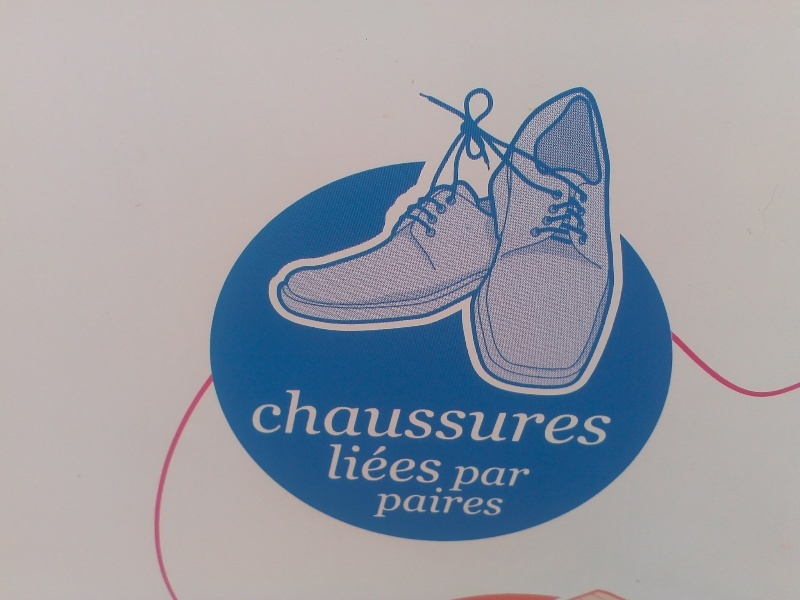text: (257, 386, 272, 448), (273, 386, 288, 448), (289, 386, 304, 448), (305, 386, 320, 448), (321, 386, 336, 448), (337, 386, 352, 448), (353, 386, 368, 448), (369, 386, 384, 448), (385, 386, 400, 448), (401, 386, 416, 448), (417, 386, 432, 448), (433, 386, 448, 448), (449, 386, 464, 448), (465, 386, 480, 448), (481, 386, 496, 448), (497, 386, 512, 448), (513, 386, 528, 448), (529, 386, 544, 448), (545, 386, 560, 448), (561, 386, 576, 448), (577, 386, 592, 448), (593, 386, 608, 448), (337, 443, 352, 484), (353, 443, 368, 484), (369, 443, 384, 484), (385, 443, 400, 484), (401, 443, 416, 484), (417, 443, 432, 484), (433, 443, 448, 484), (385, 485, 400, 518), (401, 485, 416, 518), (417, 485, 432, 518), (433, 485, 448, 518), (449, 485, 464, 518), (465, 485, 480, 518), (481, 485, 496, 518), (497, 485, 510, 518), (465, 465, 480, 493), (481, 465, 496, 493), (497, 465, 512, 493), (513, 465, 528, 493), (609, 386, 614, 448), (330, 443, 336, 484), (456, 465, 464, 493), (378, 485, 384, 518), (253, 386, 256, 448), (529, 465, 533, 493), (449, 443, 450, 484)
